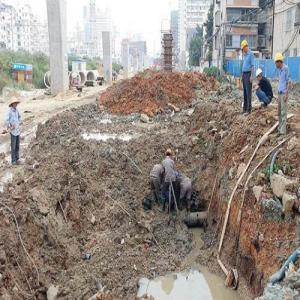white: (256, 67, 264, 83)
yellow: (275, 53, 286, 72), (241, 40, 249, 55), (167, 149, 173, 160)
